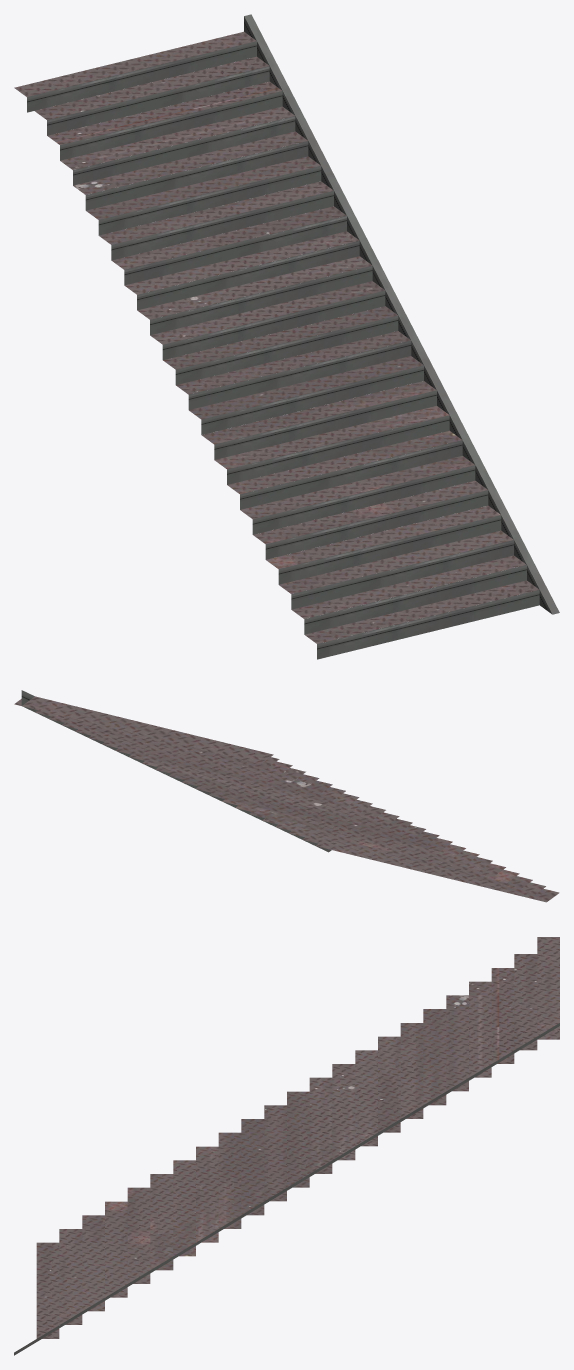
3 views of the same model, one above another, from view 1: azimuth 30°, elevation 25°; view 2: azimuth 150°, elevation 25°; view 3: azimuth 270°, elevation 25° (orthographic). The views are drawn at different scales.
Parts seen in each view (by area): view 1: body0_model0_lod0_mesh0, body0_model0_lod0_mesh1; view 2: body0_model0_lod0_mesh1, body0_model0_lod0_mesh0; view 3: body0_model0_lod0_mesh1, body0_model0_lod0_mesh0.
Boxes of the visible parts, box(x1,y1,x2,y2) form: body0_model0_lod0_mesh0: box(27, 14, 559, 659); body0_model0_lod0_mesh1: box(14, 31, 539, 643); body0_model0_lod0_mesh1: box(14, 696, 559, 902); body0_model0_lod0_mesh0: box(21, 690, 331, 852); body0_model0_lod0_mesh1: box(36, 937, 559, 1338); body0_model0_lod0_mesh0: box(14, 1023, 559, 1355).
Bounding box in the file's own units: 128 × 192 × 288.
3 materials, 3 textured.
